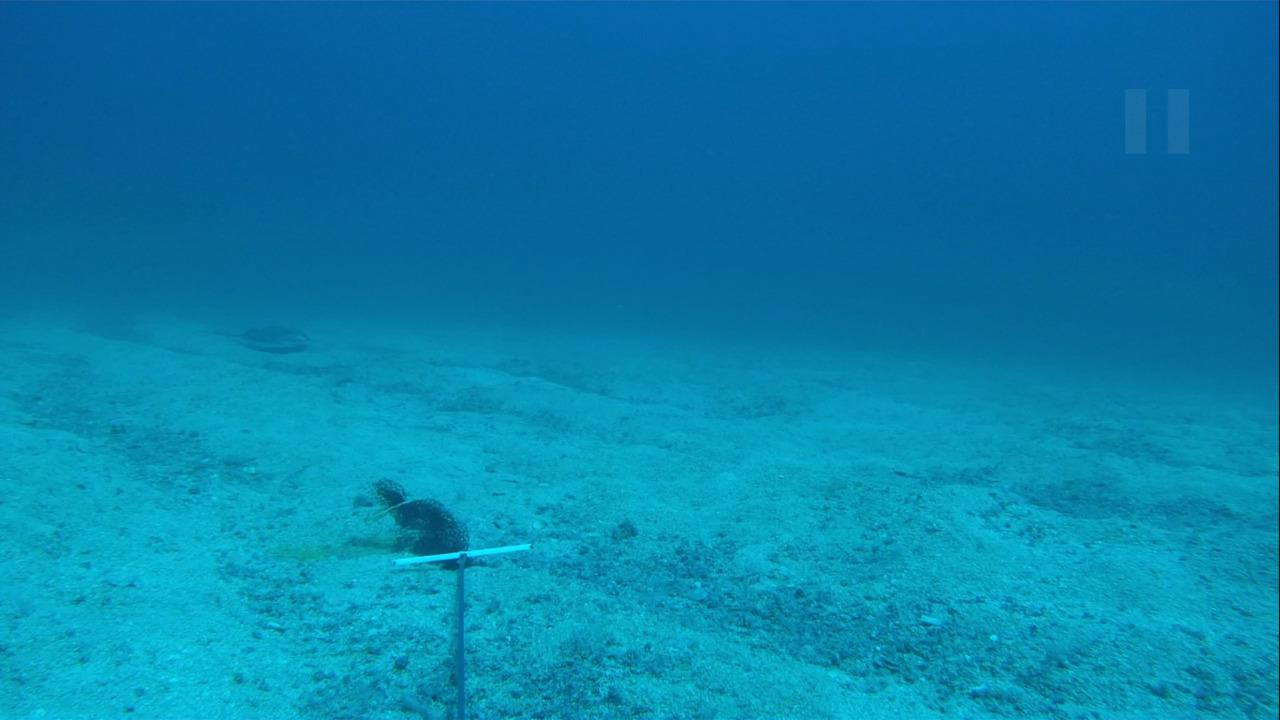myliobatis: (172, 316, 320, 365)
